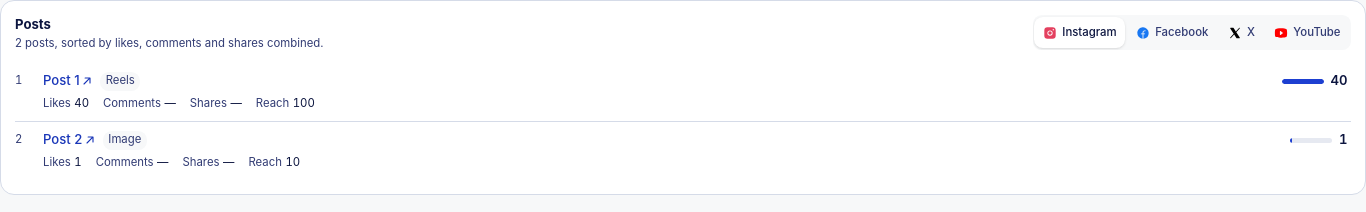
Test case: SocialPostsPanel › says a platform has no posts yet, and which one failed to load
The image size is (1366, 212).
Step 1. Click the button "YouTube" → (1307, 33), box [1265,17,1349,48]
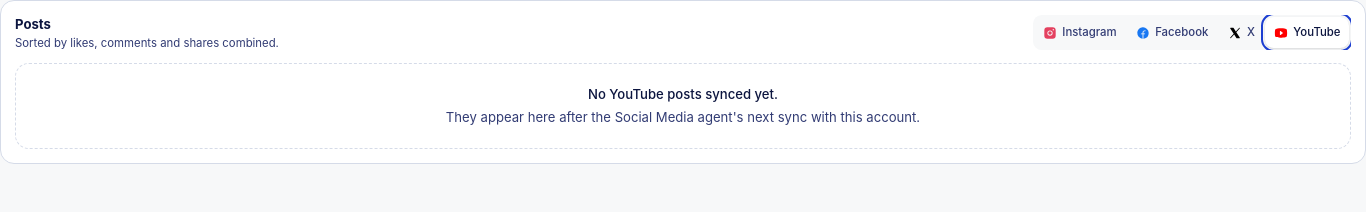
Check: the text "No YouTube posts synced yet." is shown, box [588,86,778,102]
Step 2. Click the button "Facebook" → (1172, 33), box [1127,17,1217,48]
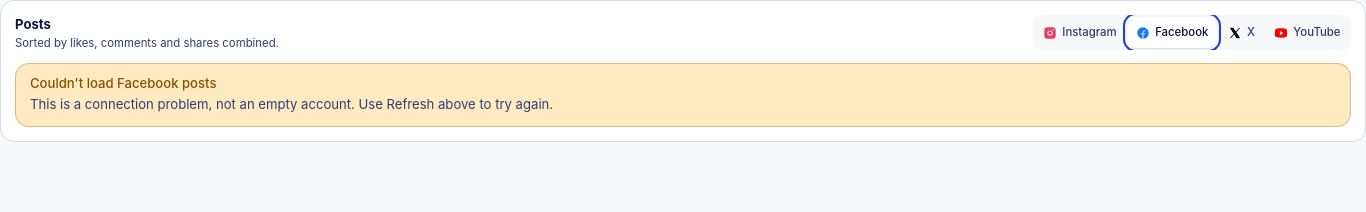
Check: the message shows "Couldn't load Facebook posts", box [15,63,1351,126]
